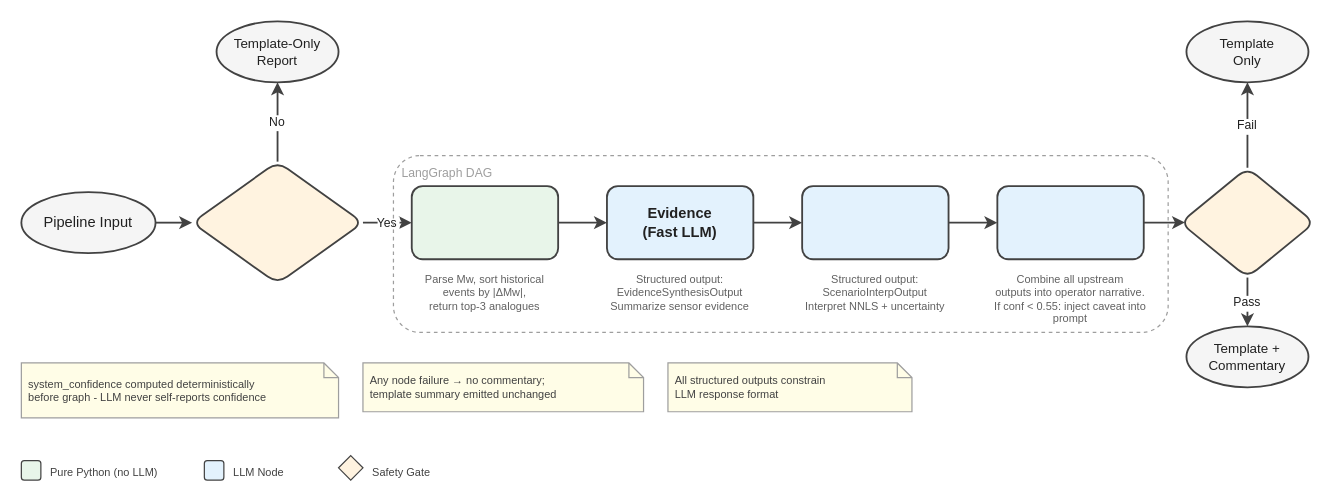
Some shapes in this 1337 by 504 pixel diagram are drawn without their labels. The shapes that lost their labels are listed below. From the top down, each one's centre as x and y in pixels, then its label:
At (x=277, y=222): "system_confidence ≥ 0.35?".
At (x=484, y=222): "Retrieval (Python)".
At (x=875, y=222): "Scenario (Fast LLM)".
At (x=1070, y=222): "Narrative (Standard LLM)".
At (x=1247, y=222): "Guardrail Scan (post-graph)".
